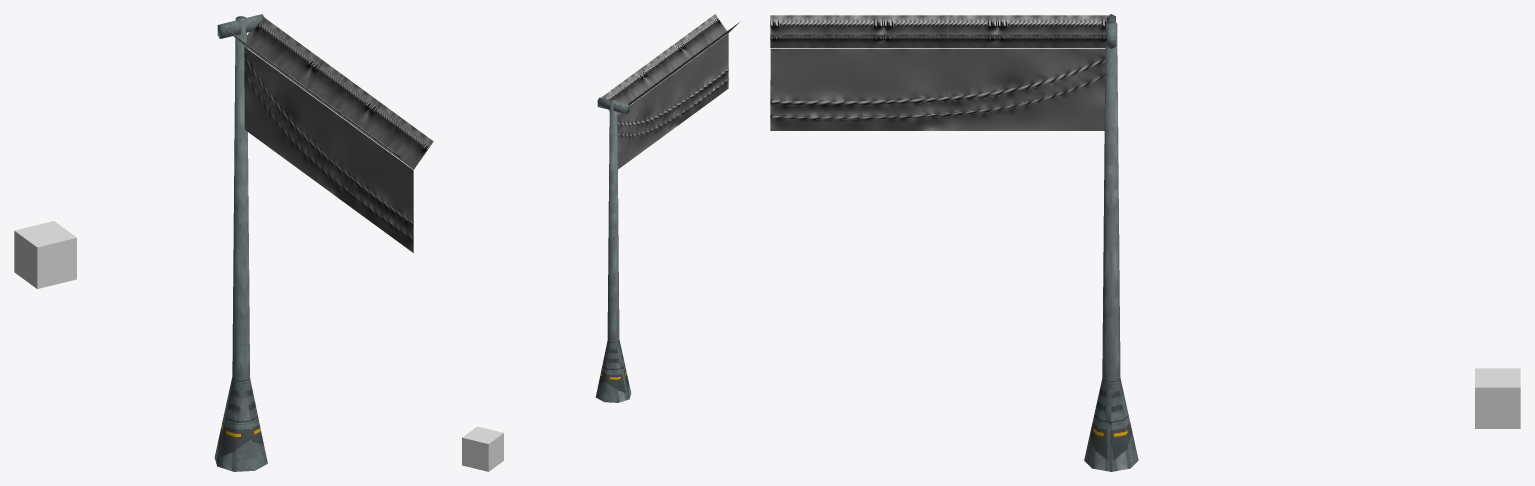
The model's file is pbtele03.FBX.
3 renders of one model, left to right at view 1: azimuth 30°, elevation 25°; view 2: azimuth 150°, elevation 25°; view 3: azimuth 270°, elevation 25°, orthographic. The views are drawn at different scales.
Parts seen in each view (by area): view 1: lines3__2, pbtele03, hp_dummyroot; view 2: lines3__2, pbtele03, hp_dummyroot; view 3: lines3__2, pbtele03, hp_dummyroot.
Part boxes in pixels (left/top/right/bottom): lines3__2: left=223, top=16, right=433, bottom=252; pbtele03: left=214, top=14, right=267, bottom=471; hp_dummyroot: left=14, top=221, right=76, bottom=288; lines3__2: left=601, top=14, right=739, bottom=169; pbtele03: left=595, top=97, right=631, bottom=402; hp_dummyroot: left=462, top=426, right=503, bottom=471; lines3__2: left=770, top=15, right=1109, bottom=130; pbtele03: left=1084, top=14, right=1138, bottom=471; hp_dummyroot: left=1475, top=368, right=1520, bottom=428.
Size of what is drawn, in the model's own units: 1.2 by 16.5 by 10.6.
